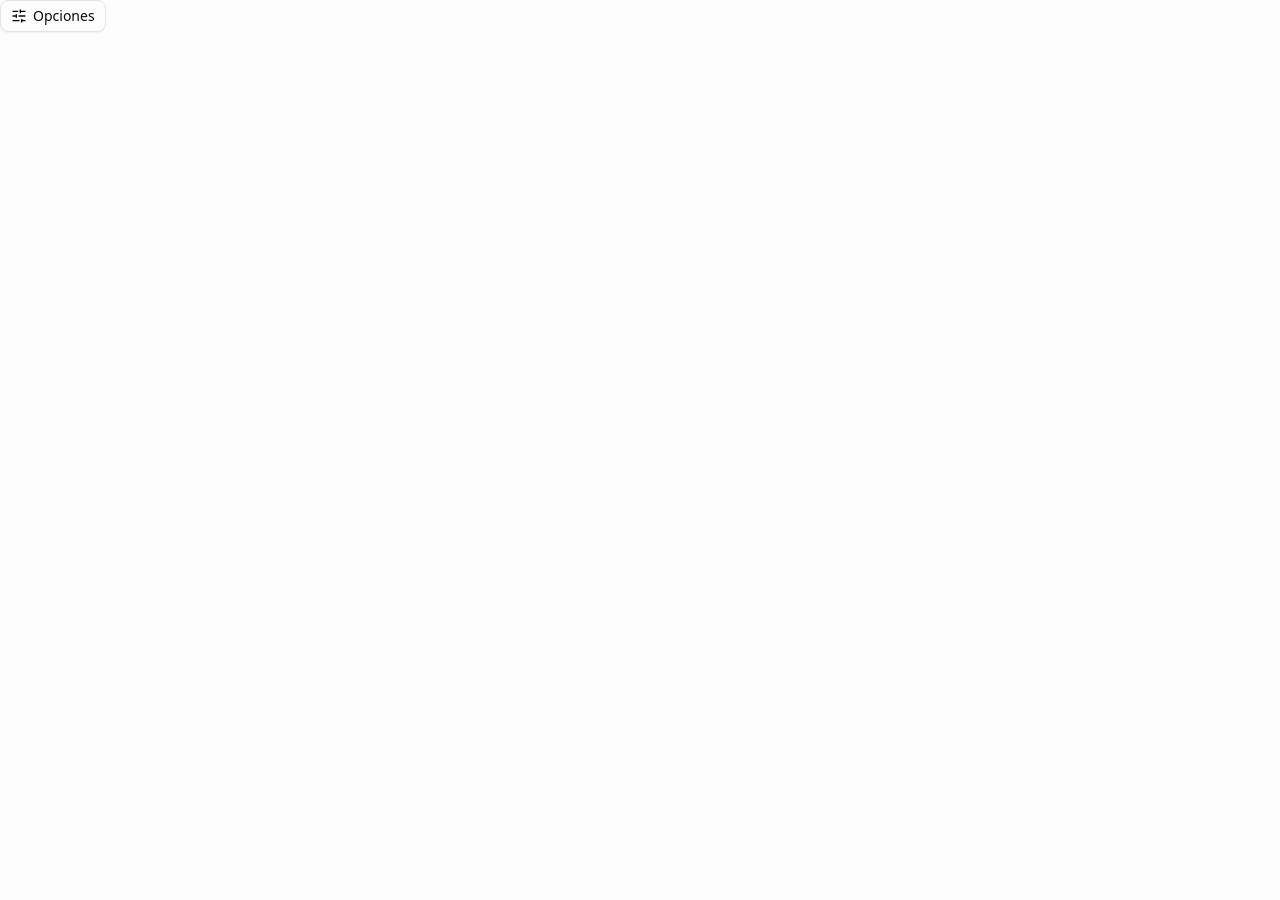
Scenario: FormatOptionsPanel › abre el panel y permite restaurar
Later steps or results of the test are not shown.
Click the button with aria-label "Abrir opciones de formato": coordinates (53, 16) top-left (0, 0), bottom-right (106, 32)
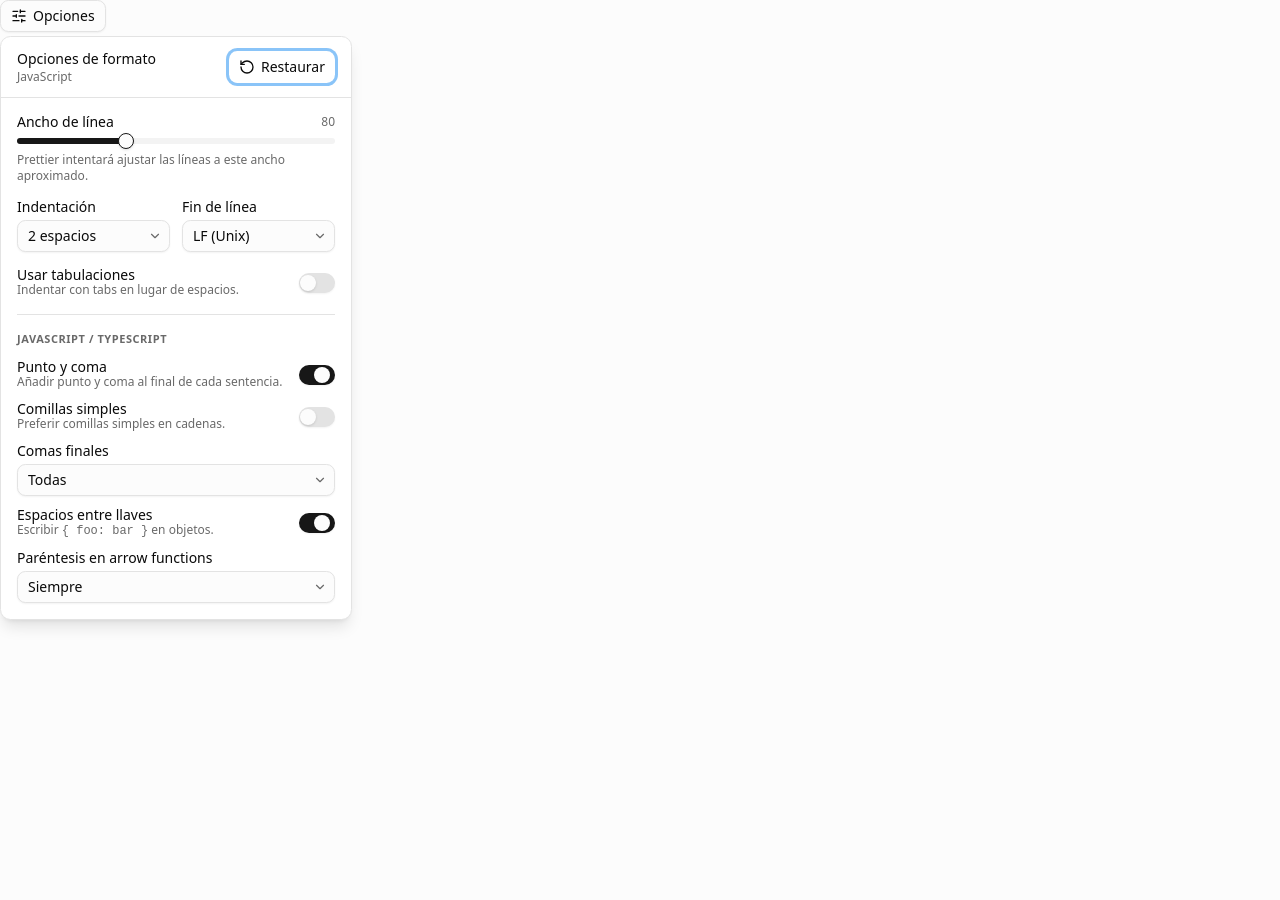
Now the text "Opciones de formato" is shown, box top-left (17, 49), bottom-right (156, 69)
Now the text "JavaScript" is shown, box top-left (17, 68), bottom-right (72, 85)
